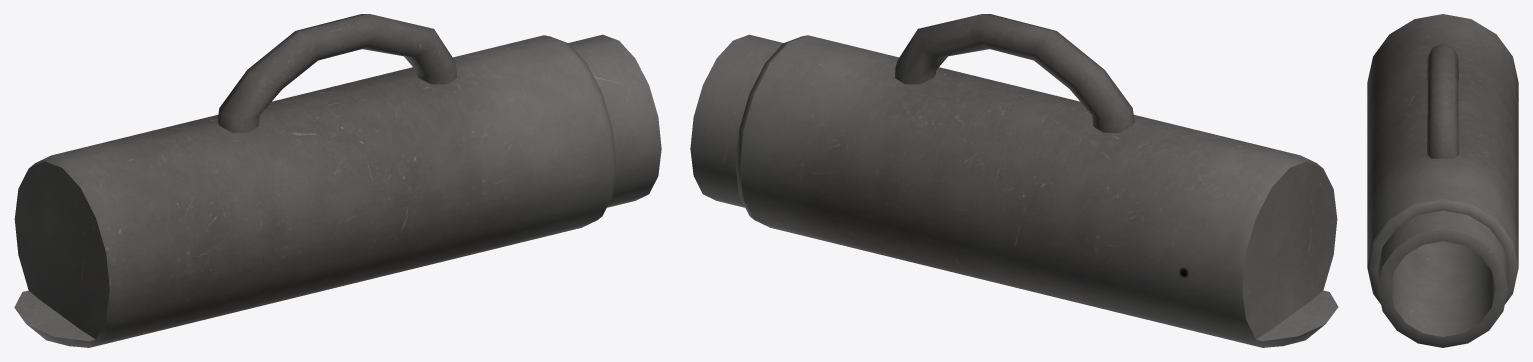
File: SM_Bullanggi_Japo_Cannon.fbx
3 views of the same model, side by side, from view 1: azimuth 30°, elevation 25°; view 2: azimuth 150°, elevation 25°; view 3: azimuth 270°, elevation 25° (orthographic). The views are drawn at different scales.
Visible parts, largest first — view 1: SM_Bullanggi_Japo_Cannon; view 2: SM_Bullanggi_Japo_Cannon; view 3: SM_Bullanggi_Japo_Cannon.
Boxes of the visible parts, x1,y1,x2,y2 form: SM_Bullanggi_Japo_Cannon: [14, 14, 661, 347]; SM_Bullanggi_Japo_Cannon: [690, 14, 1338, 347]; SM_Bullanggi_Japo_Cannon: [1367, 14, 1518, 347].
Size of the model in its own units: 45.27 by 13 by 18.48.
1 material, 1 textured.
